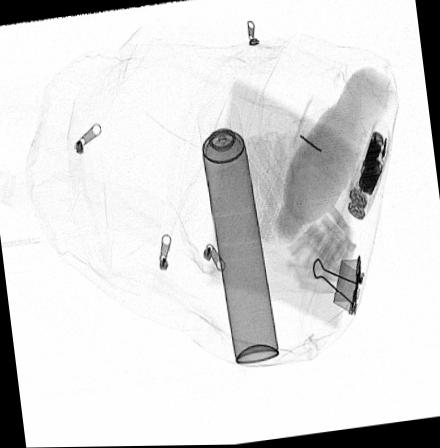Sprayer: (198, 100, 279, 366)
